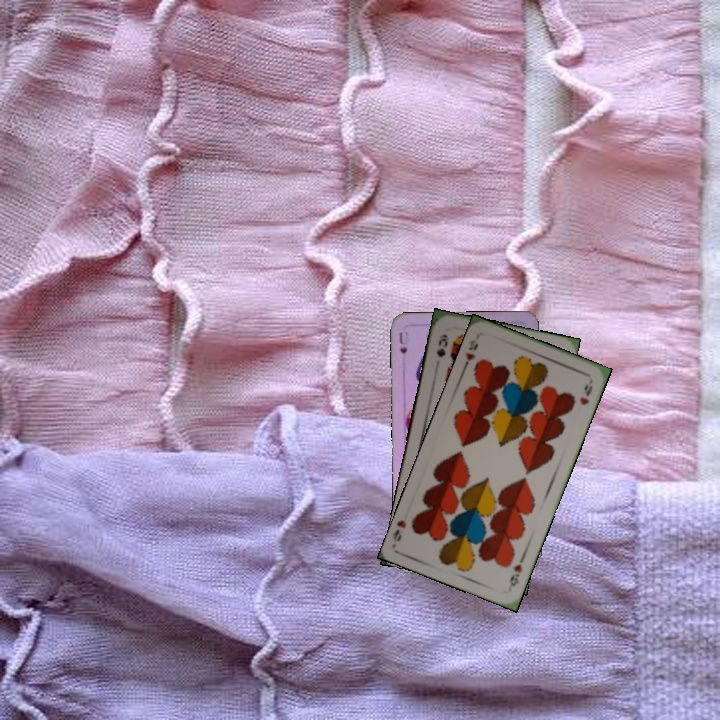H9: (459, 335, 481, 371), (505, 560, 525, 592)
S8: (432, 330, 451, 360)
SU: (395, 327, 412, 356)
